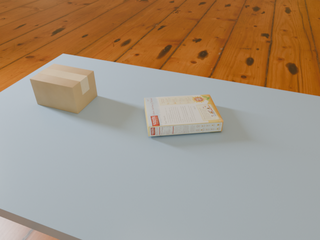box: (30, 64, 97, 114), (144, 95, 223, 136)
